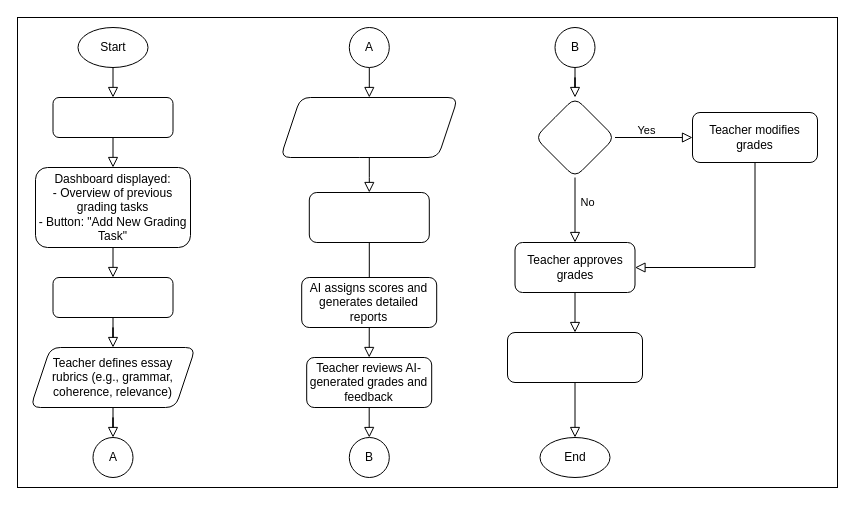
Image size: 855x505. Some labels were removed from this diagram. Each missing label, with the centre of its shape:
AI analyzes essays based on defined rubrics: the point at 368,217
Modify grades ?: the point at 574,137
Results saved and displayed on the dashboard: the point at 574,357
Teacher clicks "Add New Grading Task": the point at 112,297
Teacher logs into the system: the point at 112,117
Teacher uploads PDF containing student essays: the point at 369,127
